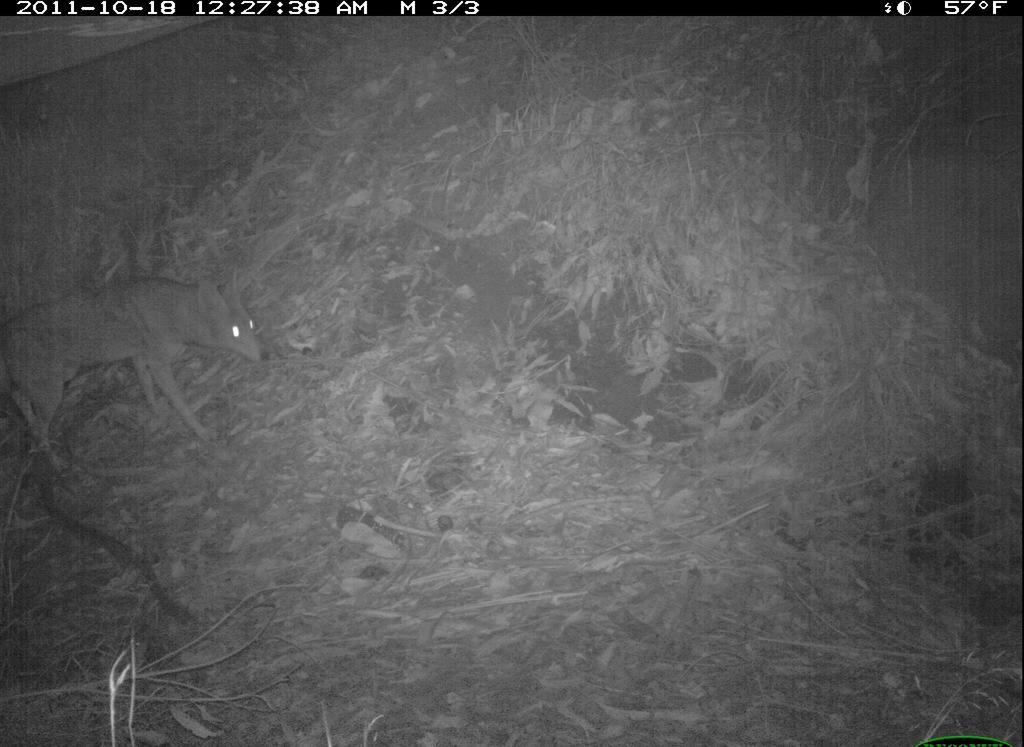coyote: (7, 266, 290, 486)
